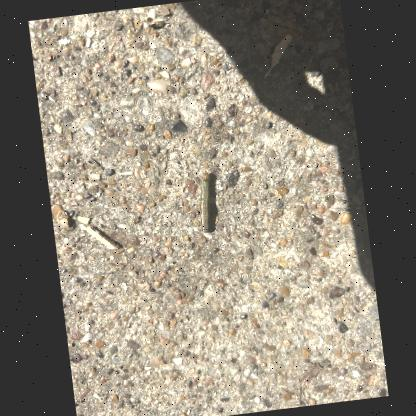Fall Armyworm Larvae: (191, 168, 219, 235)
